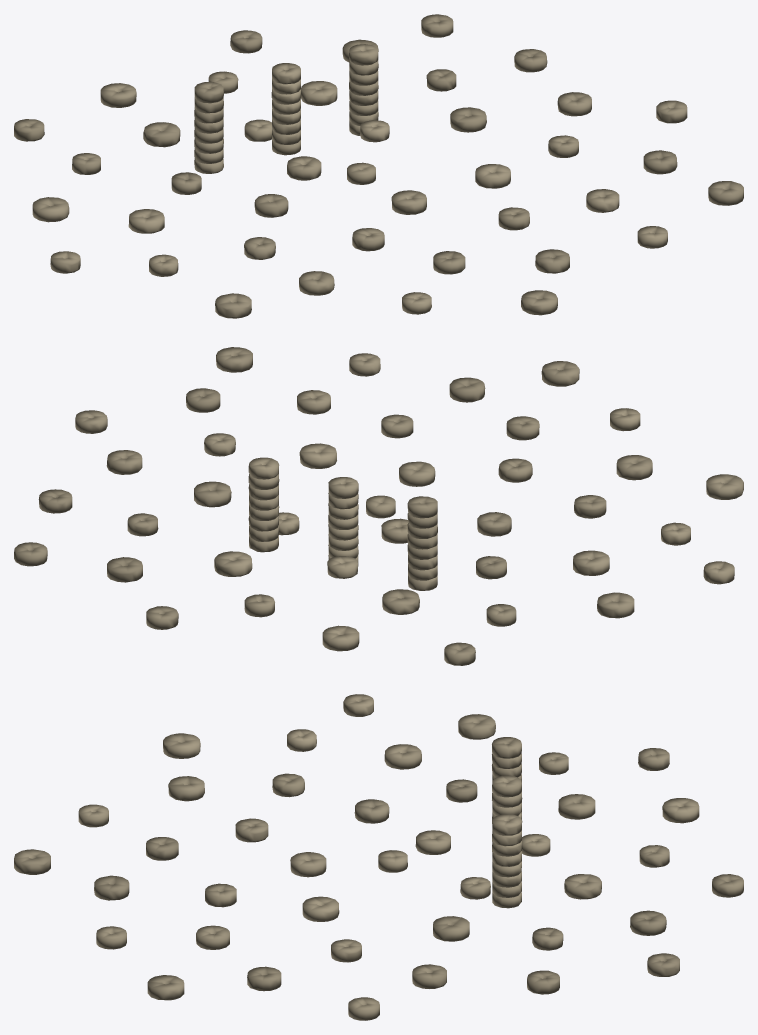
The model's file is crinoid-debris.lod1.glb.
The picture shows the model from 3 angles, top to bottom: view 1: azimuth 30°, elevation 25°; view 2: azimuth 150°, elevation 25°; view 3: azimuth 270°, elevation 25°; orthographic projection. The views are drawn at different scales.
Visible parts, largest first — view 1: crinoid-debris; view 2: crinoid-debris; view 3: crinoid-debris.
Part boxes in pixels (<box>): crinoid-debris: <box>14,14,743,318</box>; crinoid-debris: <box>14,347,743,665</box>; crinoid-debris: <box>14,694,743,1020</box>.
Bounding box in the file's own units: 0.1971 × 0.0238 × 0.1921.
